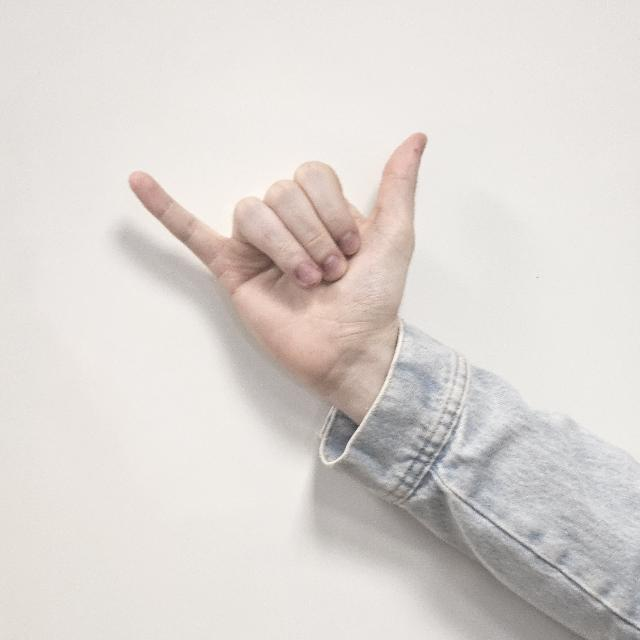Direita: (124, 106, 434, 422)
